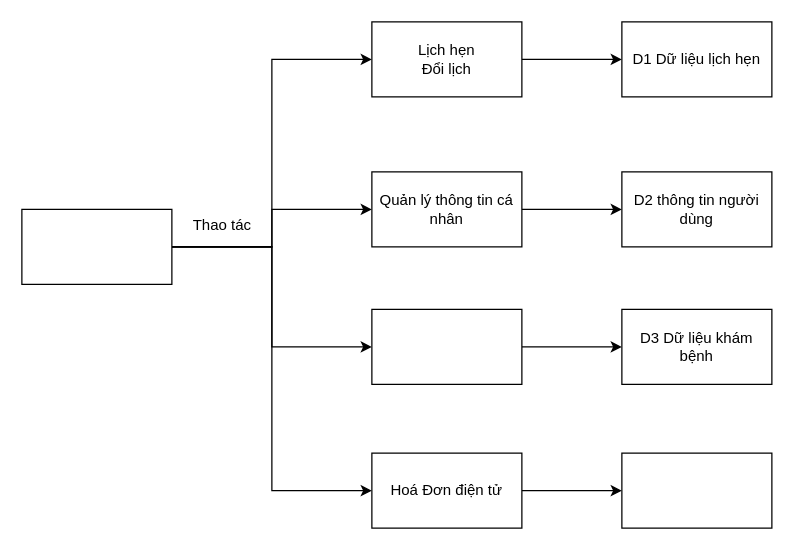
Image size: 794x550. Some labels were removed from this diagram. The box of each missing label's shape, as (x1, y1, x2, y2) in pixels:
Bệnh nhân: (21, 208, 172, 284)
D4 Hoá Đơn điện tử: (621, 452, 772, 528)
Kết quả khám bệnh: (371, 308, 522, 384)
